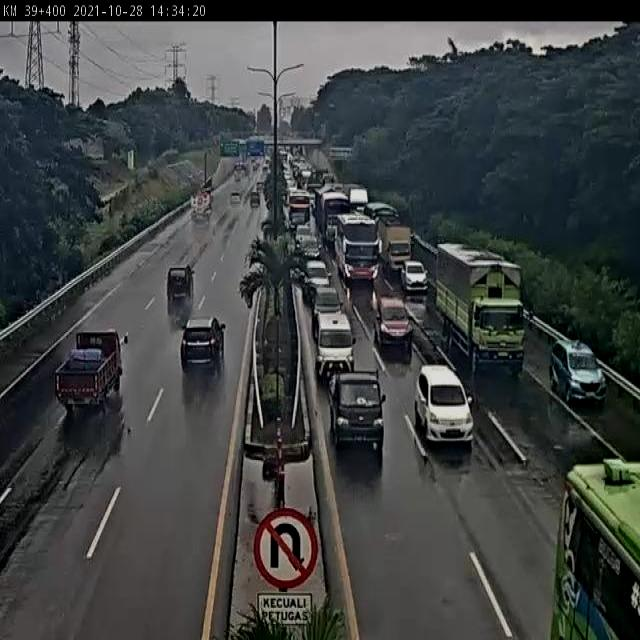Bus: (551, 446, 640, 640), (335, 213, 383, 288), (314, 188, 351, 250)
Car: (551, 336, 608, 406), (310, 309, 357, 382), (178, 316, 229, 372), (375, 290, 414, 354), (301, 257, 333, 301), (307, 286, 342, 325), (165, 262, 196, 304), (400, 257, 430, 299), (229, 190, 245, 206), (252, 190, 262, 206)
Truck: (432, 242, 532, 371), (57, 320, 132, 420), (326, 368, 388, 459), (379, 222, 414, 276), (187, 187, 217, 220), (287, 192, 314, 226)
Van: (416, 362, 476, 446)
